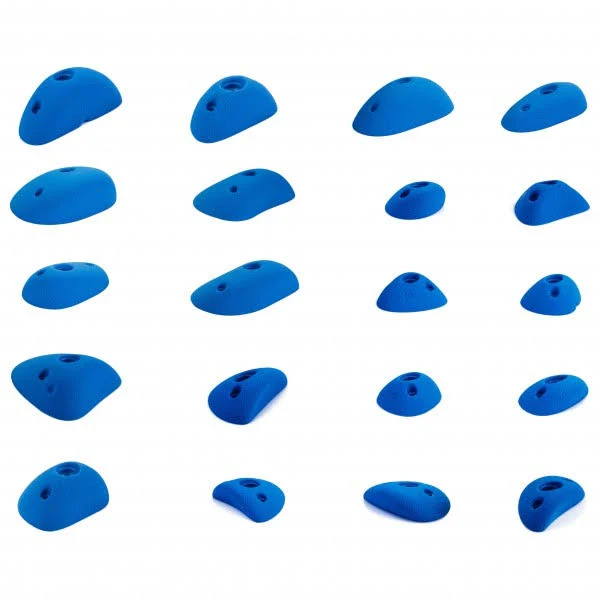hold: (17, 67, 120, 143), (10, 353, 118, 418), (16, 461, 106, 529), (10, 166, 115, 223), (352, 76, 451, 134), (190, 261, 298, 313), (190, 75, 276, 140), (193, 169, 294, 220), (208, 367, 284, 424), (21, 262, 106, 307), (517, 477, 583, 530), (364, 481, 448, 520), (514, 180, 586, 223), (211, 478, 283, 520), (517, 375, 586, 415), (376, 271, 445, 310), (377, 373, 439, 415), (520, 274, 580, 313), (385, 181, 444, 219)
